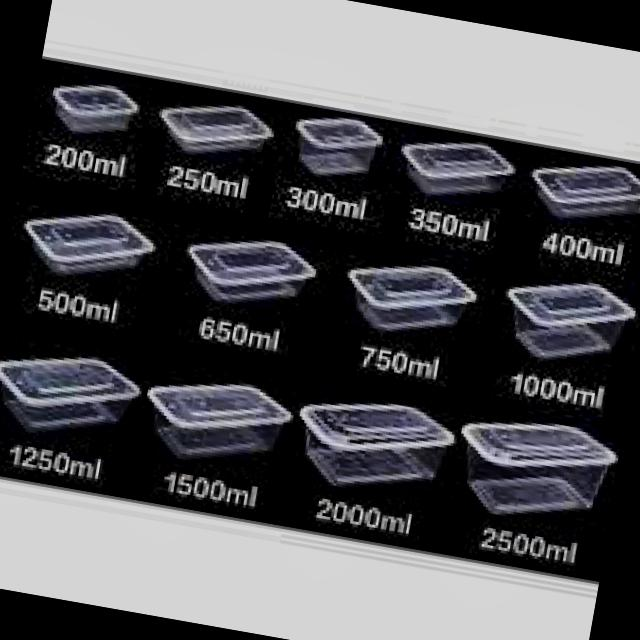plastic container: (466, 424, 616, 515), (304, 405, 454, 487), (150, 385, 292, 460), (0, 358, 139, 432), (509, 284, 635, 359), (351, 268, 476, 331), (188, 242, 316, 303), (25, 216, 154, 274), (535, 166, 640, 218), (406, 144, 515, 194), (163, 106, 273, 153), (299, 120, 382, 175), (55, 86, 139, 133)
